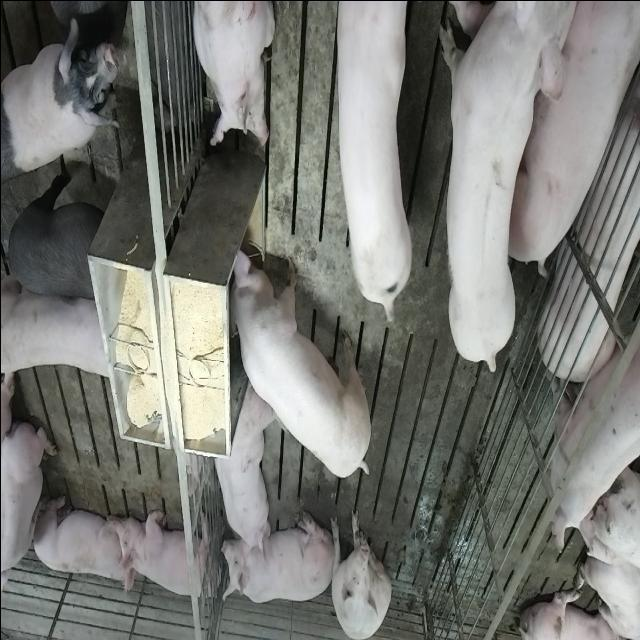Feeding: (229, 247, 375, 479)
Lateral_lying: (512, 0, 640, 270)
Sitting: (328, 506, 391, 638)
Standing: (434, 4, 561, 379), (330, 0, 412, 320), (550, 301, 640, 548), (2, 17, 122, 176), (3, 166, 108, 306), (2, 271, 120, 383)
Sternal_lying: (190, 0, 274, 150), (209, 378, 270, 558), (222, 509, 328, 609), (3, 416, 56, 604), (29, 491, 130, 588), (118, 505, 214, 603)
